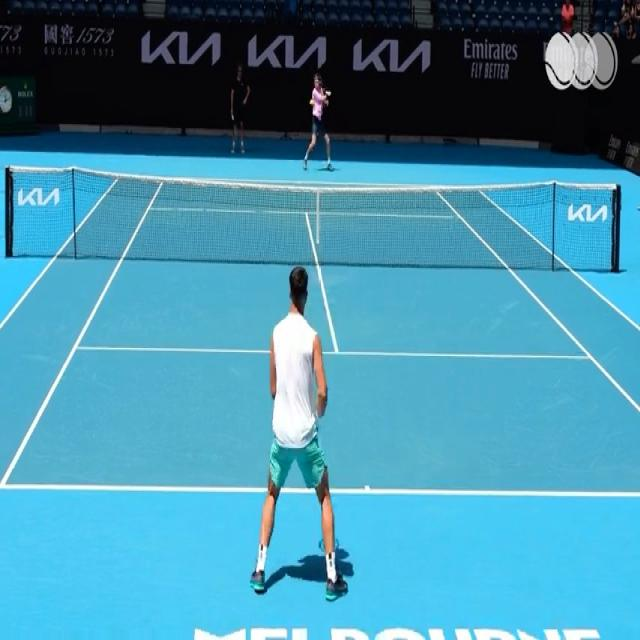ready-position: (255, 258, 355, 601)
